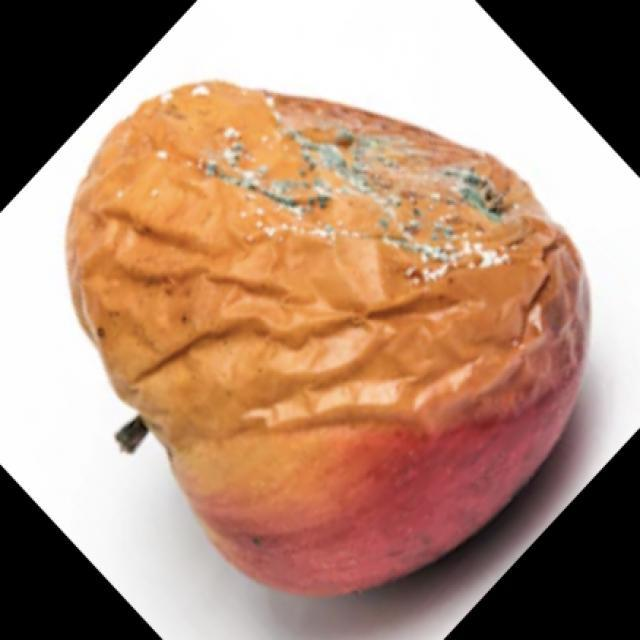Rotten: (104, 83, 578, 597)
